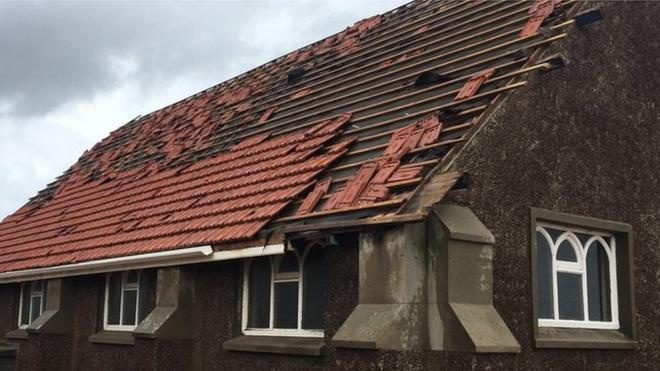sagging_roof: (62, 19, 555, 185)
